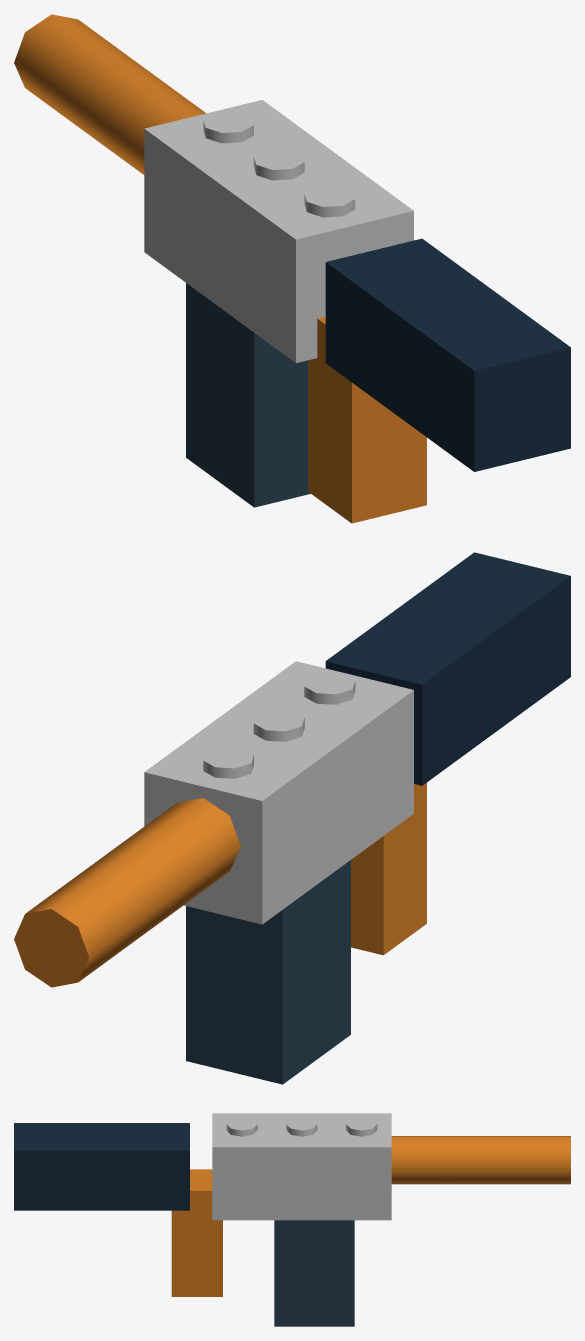
File: LegoSmg.glb
The picture shows the model from 3 angles, top to bottom: view 1: azimuth 30°, elevation 25°; view 2: azimuth 150°, elevation 25°; view 3: azimuth 270°, elevation 25°; orthographic projection. The views are drawn at different scales.
Parts seen in each view (by area): view 1: LegoSmg; view 2: LegoSmg; view 3: LegoSmg.
Boxes of the visible parts, x1,y1,x2,y2 form: LegoSmg: (14,14,570,523); LegoSmg: (14,552,570,1084); LegoSmg: (14,1113,570,1326).
Size of the model in its own units: 0.11 by 0.2843 by 0.76.
